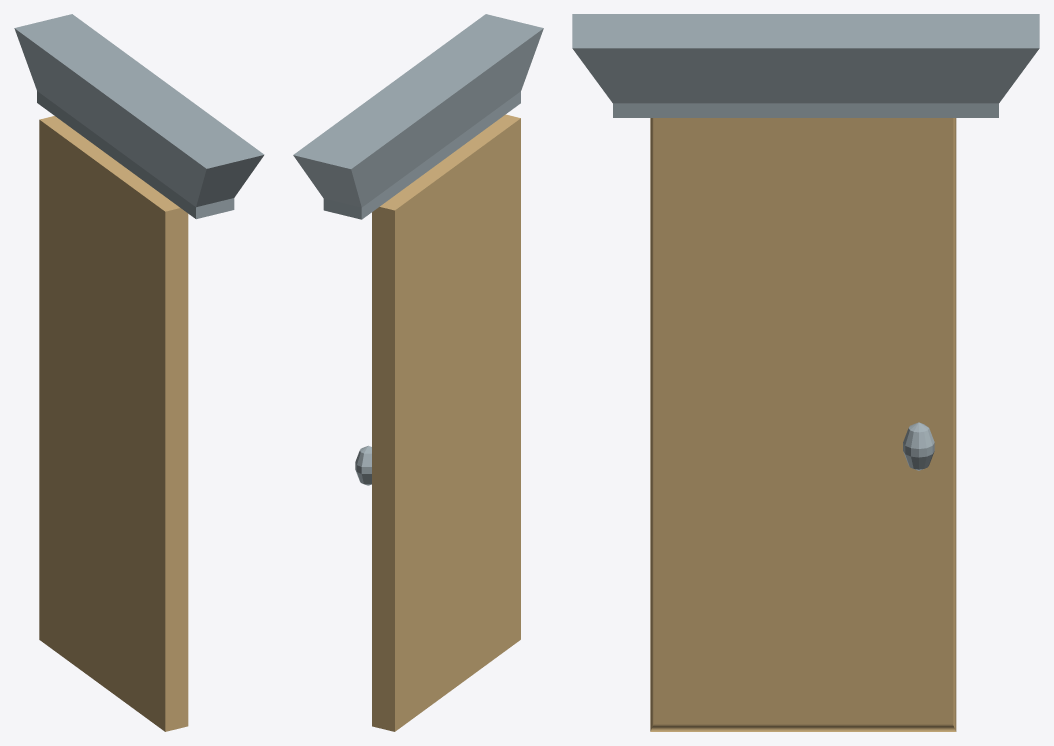
Rendered from Door.fbx.
3 views of the same model, side by side, from view 1: azimuth 30°, elevation 25°; view 2: azimuth 150°, elevation 25°; view 3: azimuth 270°, elevation 25° (orthographic). The views are drawn at different scales.
Parts seen in each view (by area): view 1: model:mesh2125585357; view 2: model:mesh2125585357; view 3: model:mesh2125585357.
Boxes of the visible parts, x1,y1,x2,y2 form: model:mesh2125585357: (14,14,264,731); model:mesh2125585357: (293,14,543,731); model:mesh2125585357: (572,14,1039,731).
Bounding box in the file's own units: 0.1758 × 1.46 × 0.8712.
